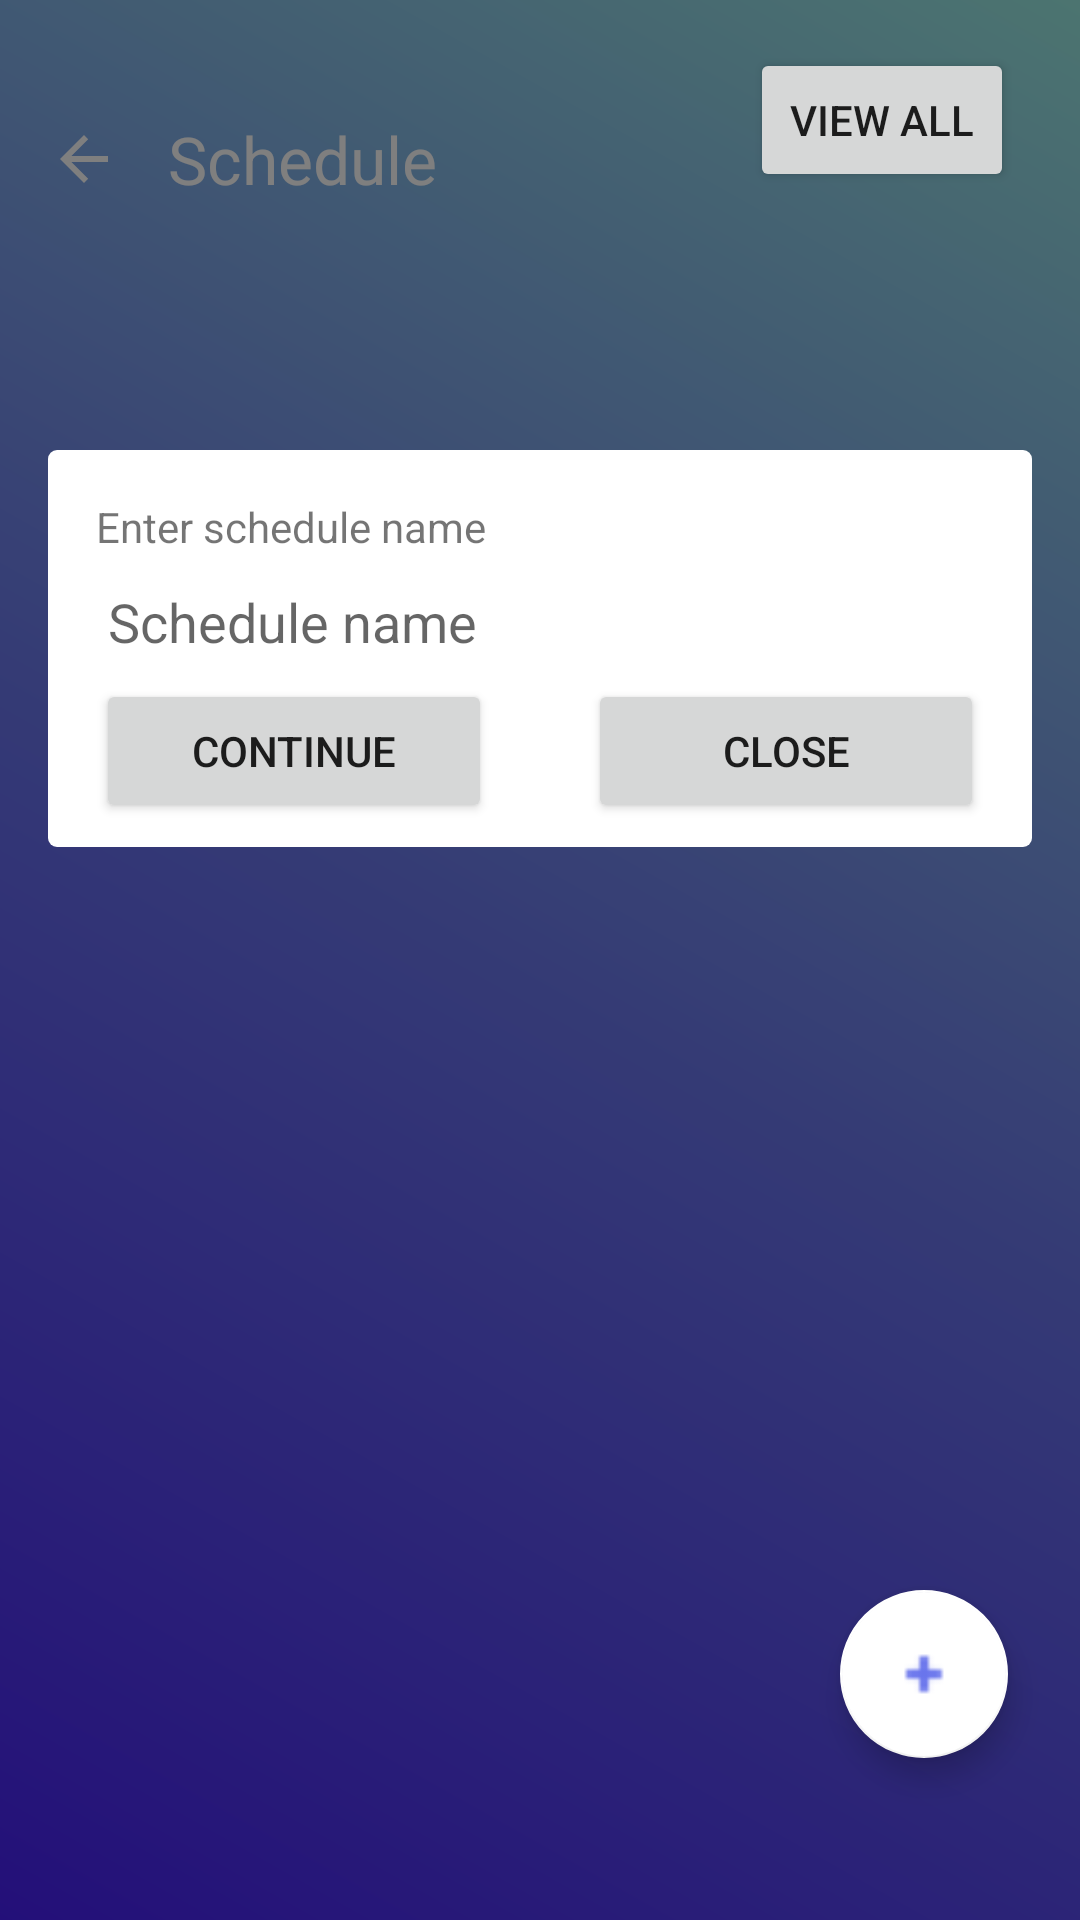

Locate icon controls on the screen. Image size 1080*1920, boxes as box=[x1, y1, x2, y2].
plus: box=[840, 1590, 1008, 1758]
